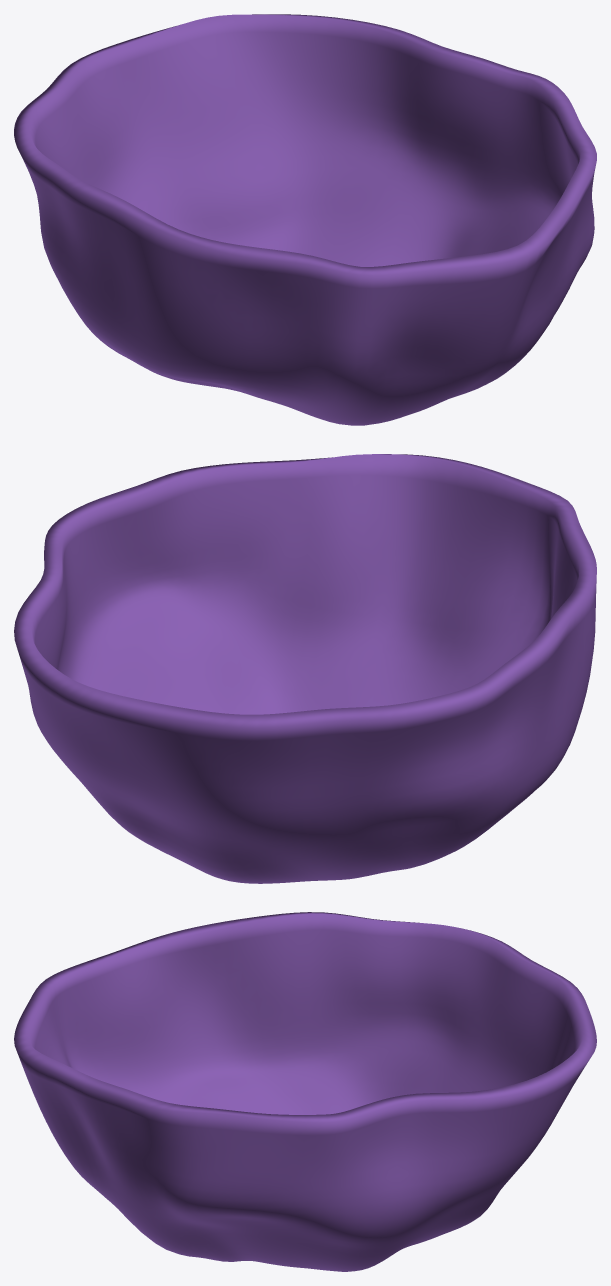
The model's file is membrana plasmatica.glb.
The picture shows the model from 3 angles, top to bottom: view 1: azimuth 30°, elevation 25°; view 2: azimuth 150°, elevation 25°; view 3: azimuth 270°, elevation 25°; orthographic projection. The views are drawn at different scales.
Parts seen in each view (by area): view 1: Sphere; view 2: Sphere; view 3: Sphere.
Boxes of the visible parts, x1,y1,x2,y2 form: Sphere: (14, 14, 596, 425); Sphere: (14, 454, 596, 883); Sphere: (14, 912, 596, 1271).
Bounding box in the file's own units: 5.96 × 2.99 × 7.05.
